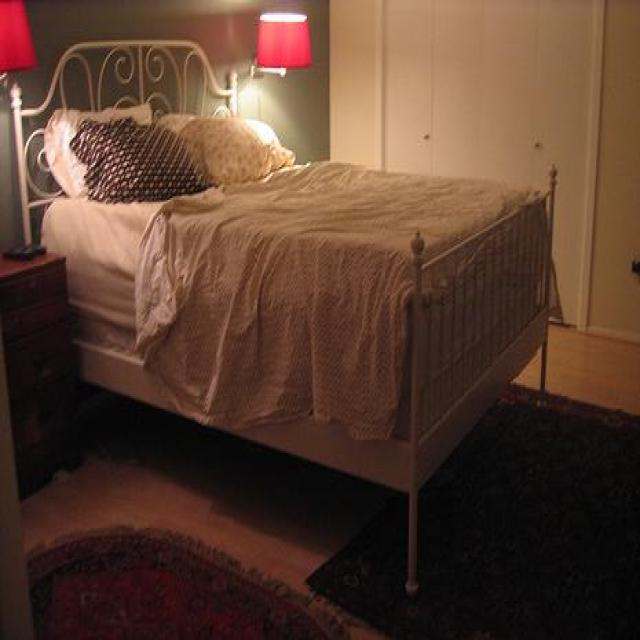bed: (0, 37, 548, 596)
